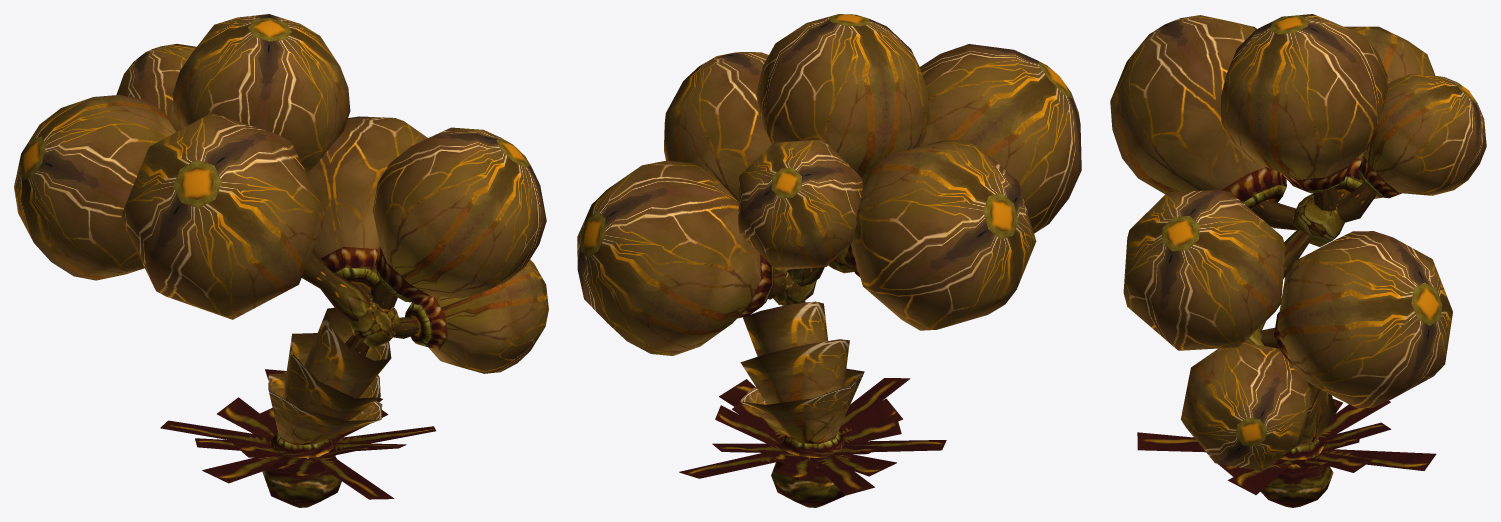
The model's file is Bug_cargo_01_a.fbx.
3 views of the same model, side by side, from view 1: azimuth 30°, elevation 25°; view 2: azimuth 150°, elevation 25°; view 3: azimuth 270°, elevation 25° (orthographic). The views are drawn at different scales.
Parts seen in each view (by area): view 1: Bug_cargo_01_a; view 2: Bug_cargo_01_a; view 3: Bug_cargo_01_a.
Boxes of the visible parts, x1=… form: Bug_cargo_01_a: x1=14, y1=14, x2=548, y2=507; Bug_cargo_01_a: x1=577, y1=14, x2=1081, y2=507; Bug_cargo_01_a: x1=1110, y1=14, x2=1486, y2=507.
Bounding box in the file's own units: 5.65 × 5.78 × 4.22.
